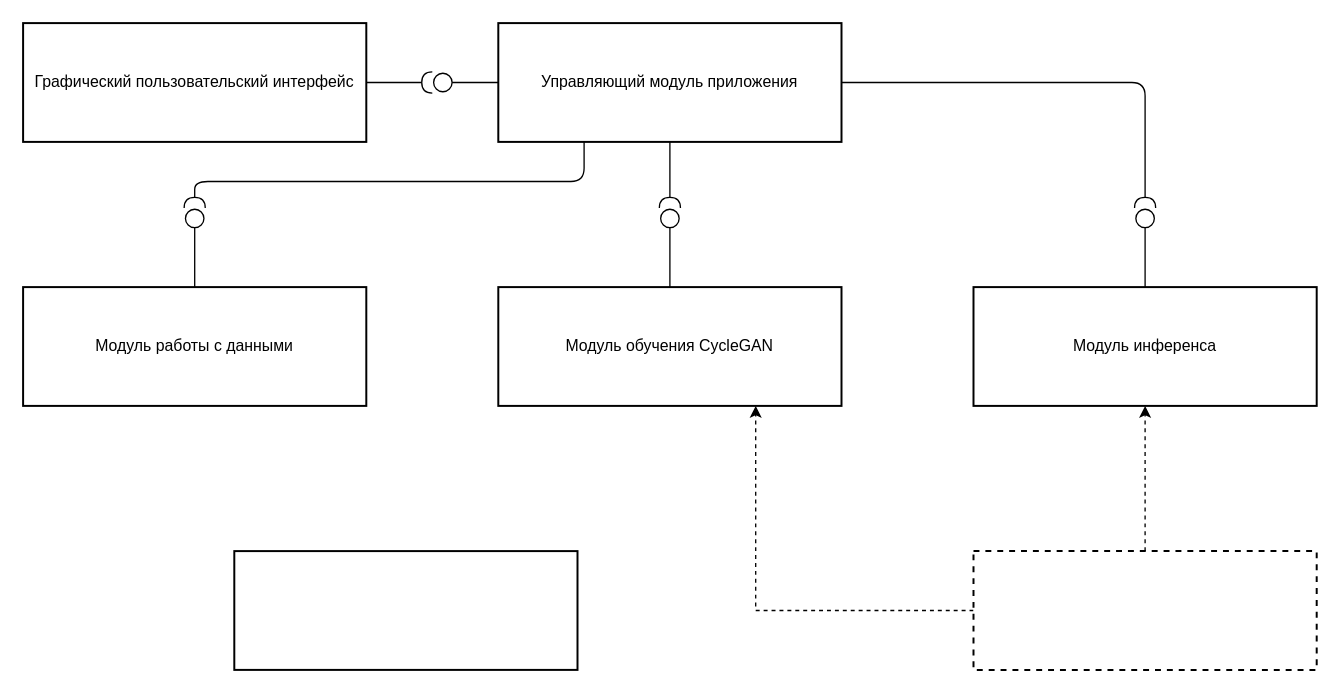
Image size: 1341x694. Some labels were removed from this diagram. Each missing label, with the centre of its shape:
"PyTorch" belongs at pixel 1144 610.
"Файловая система проекта" belongs at pixel 405 610.
